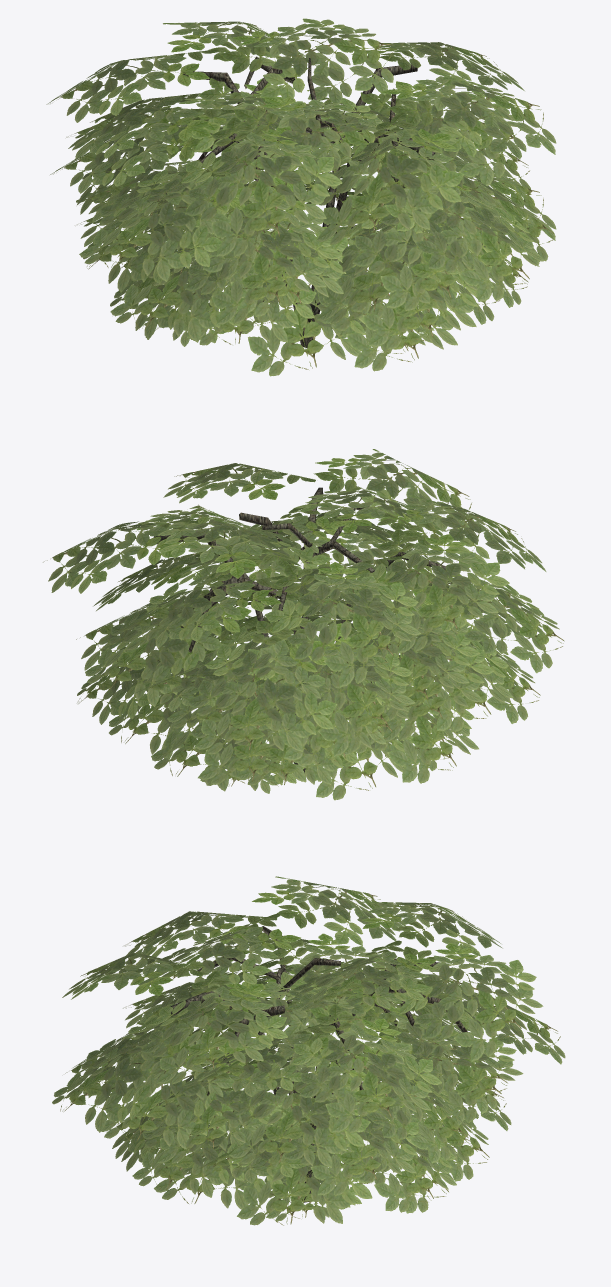
File: Vegetation_Shurb_01A1.fbx
3 views of the same model, one above another, from view 1: azimuth 30°, elevation 25°; view 2: azimuth 150°, elevation 25°; view 3: azimuth 270°, elevation 25° (orthographic). The views are drawn at different scales.
Parts seen in each view (by area): view 1: Vegetation_Shurb_01A; view 2: Vegetation_Shurb_01A; view 3: Vegetation_Shurb_01A.
Part boxes in pixels (box(x1,y1,x2,y2)): Vegetation_Shurb_01A: box(46, 18, 556, 376); Vegetation_Shurb_01A: box(43, 449, 564, 800); Vegetation_Shurb_01A: box(52, 876, 565, 1225).
Bounding box in the file's own units: 245 × 119 × 247.
